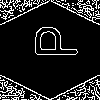P: (25, 25, 77, 58)
